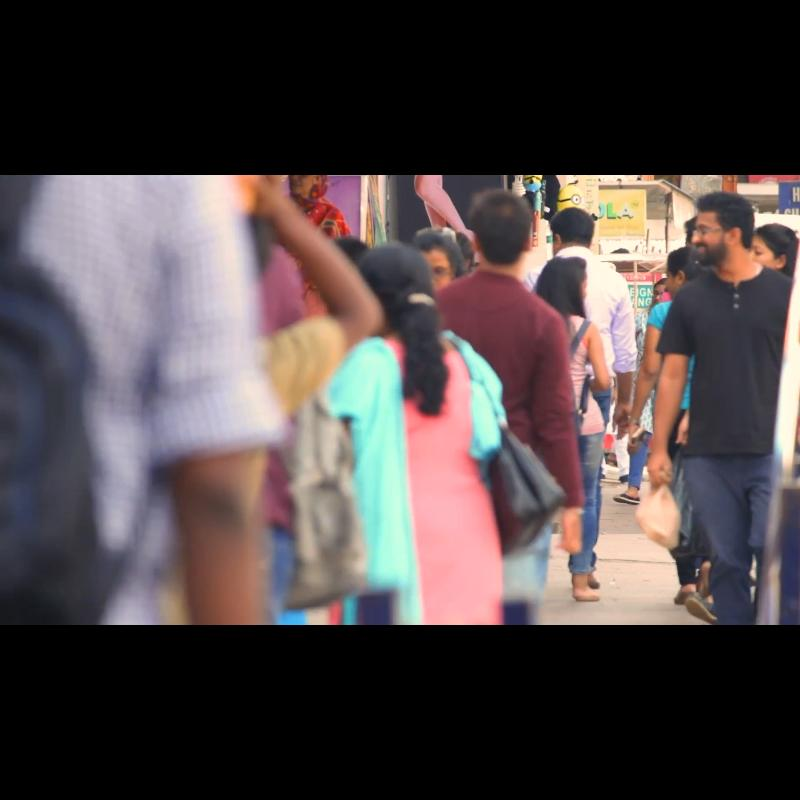Churidaar: (326, 315, 508, 624)
Shirt: (440, 276, 591, 511)
Tshirt: (649, 267, 797, 456)
